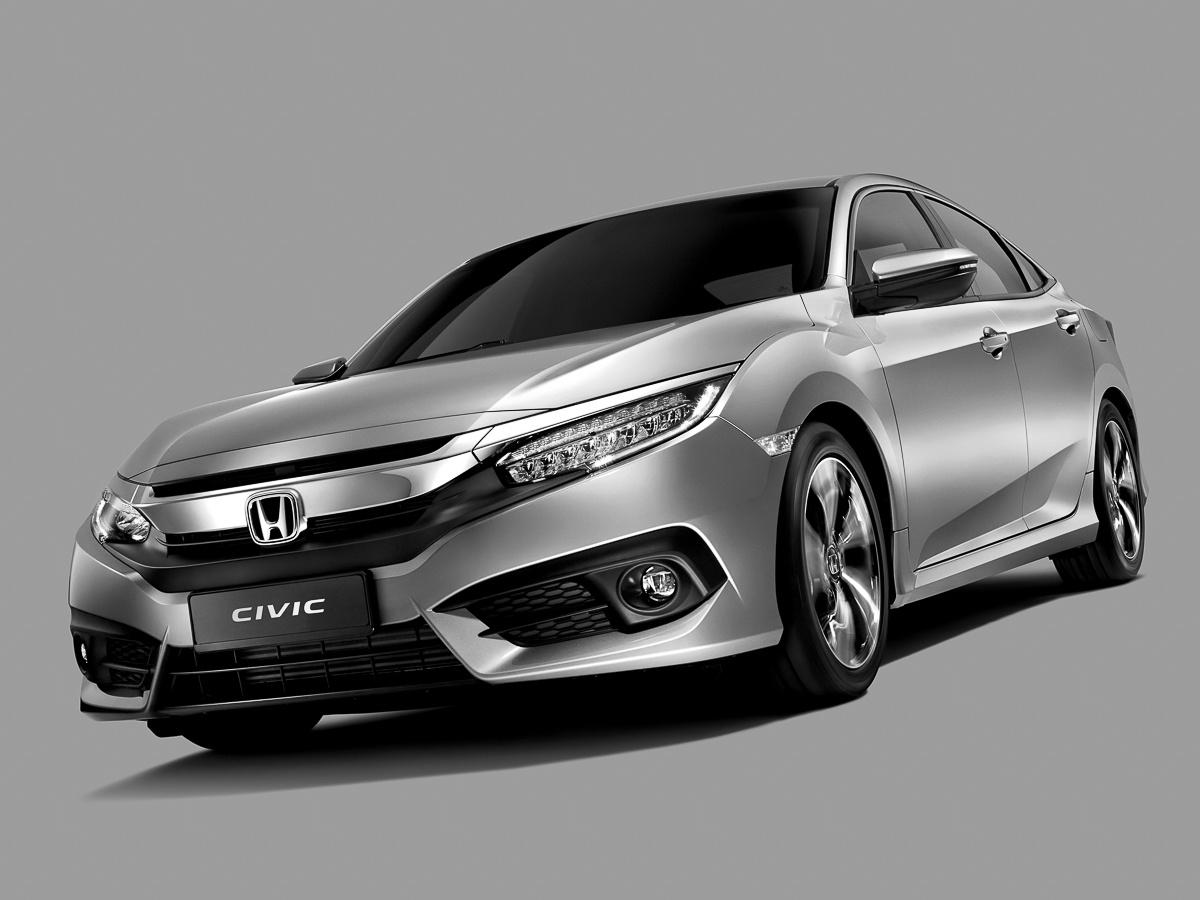Car hood: (115, 288, 815, 489)
Fender - -F-L-: (712, 280, 920, 610)
Fender - -R-L-: (1085, 305, 1144, 543)
Front bumper: (58, 412, 790, 738)
Headlight - -L-: (480, 358, 722, 500)
Headlight - -R-: (65, 475, 176, 564)
Passenger-s door - -F-L-: (835, 170, 1031, 571)
Passenger-s door - -R-L-: (931, 192, 1118, 543)
Side bumper - -L-: (875, 496, 1108, 630)
Side mirror - -L-: (840, 233, 990, 328)
Side mirror - -R-: (283, 353, 362, 394)
